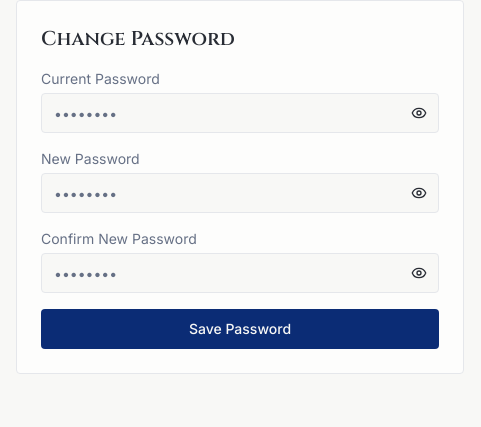
Test case: ChangePassword page › validates required fields and mismatched passwords
Click the button "Save Password" at {"x": 240, "y": 329}, box x1=41 y1=309 x2=439 y2=349
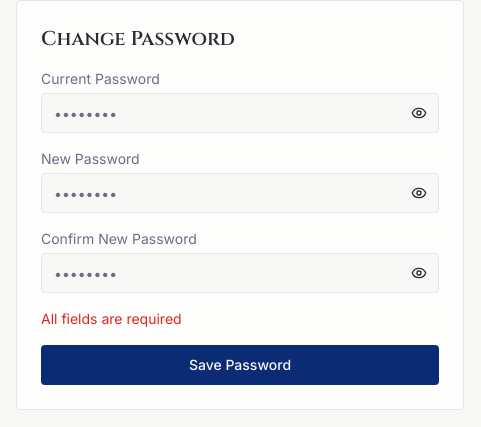
Check: the message shows "required", box x1=41 y1=310 x2=182 y2=327
// Fill current and one new but mismatch
Type "Current1!" into the password field with placeholder "••••••••" at {"x": 240, "y": 113}, box x1=41 y1=93 x2=439 y2=133
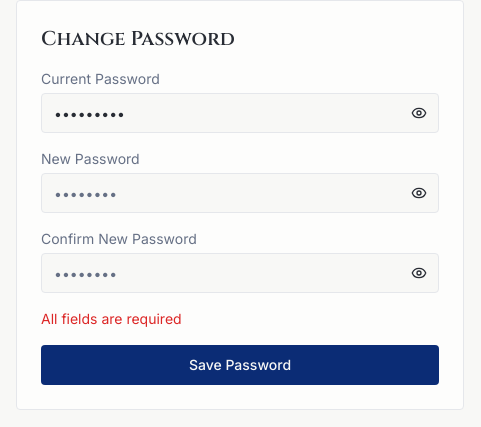
Type "NewPass1!" into the password field with placeholder "••••••••" at {"x": 240, "y": 193}, box x1=41 y1=173 x2=439 y2=213
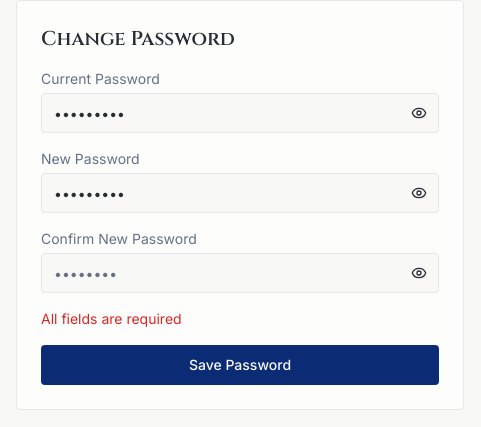
Type "Mismatch1!" into the password field with placeholder "••••••••" at {"x": 240, "y": 273}, box x1=41 y1=253 x2=439 y2=293
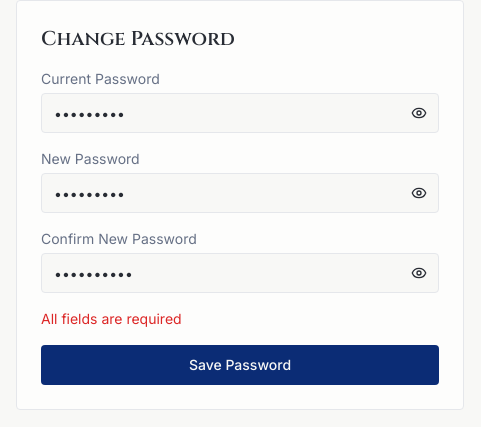
Click the button "Save Password" at {"x": 240, "y": 365}, box x1=41 y1=345 x2=439 y2=385
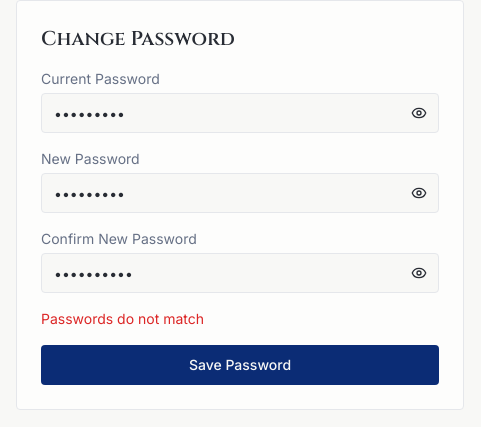
Check: the message shows "do not match", box x1=41 y1=310 x2=204 y2=327
